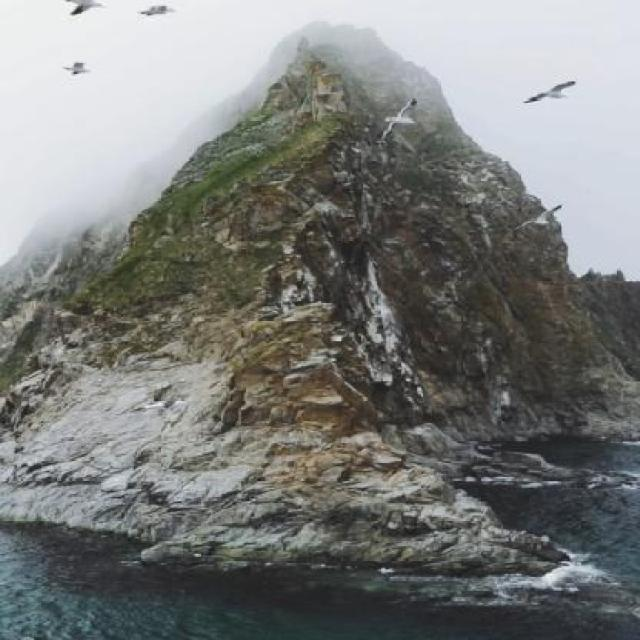bird: (509, 64, 585, 114), (496, 198, 576, 242), (370, 88, 427, 147), (49, 0, 109, 20), (54, 57, 98, 81), (131, 0, 178, 20)
